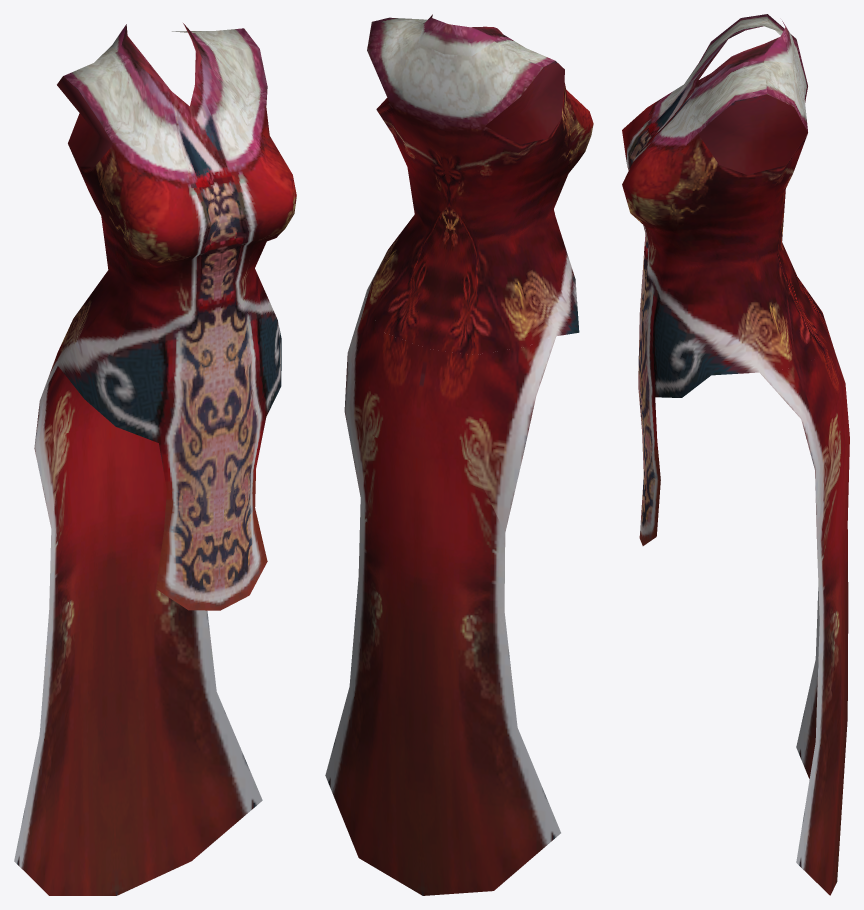
Rendered from clothes_03_ba.glb.
3 renders of one model, left to right at view 1: azimuth 30°, elevation 25°; view 2: azimuth 150°, elevation 25°; view 3: azimuth 270°, elevation 25°, orthographic. The views are drawn at different scales.
Visible parts, largest first — view 1: clothes_03_ba, clothes_03_ba_2s; view 2: clothes_03_ba_2s, clothes_03_ba; view 3: clothes_03_ba, clothes_03_ba_2s.
Part boxes in pixels (x1,y1,x2,y2): clothes_03_ba: (57, 23, 296, 610); clothes_03_ba_2s: (14, 353, 262, 895); clothes_03_ba_2s: (325, 290, 560, 895); clothes_03_ba: (366, 14, 593, 354); clothes_03_ba: (622, 14, 828, 545); clothes_03_ba_2s: (760, 315, 849, 895).
Bounding box in the file's own units: 0.3845 × 1.33 × 0.3211.
2 materials, 2 textured.
